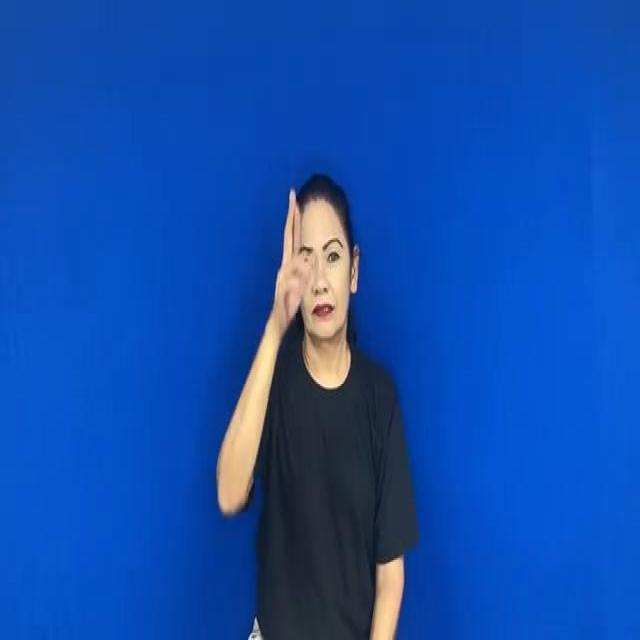chicken: (263, 186, 311, 332)
